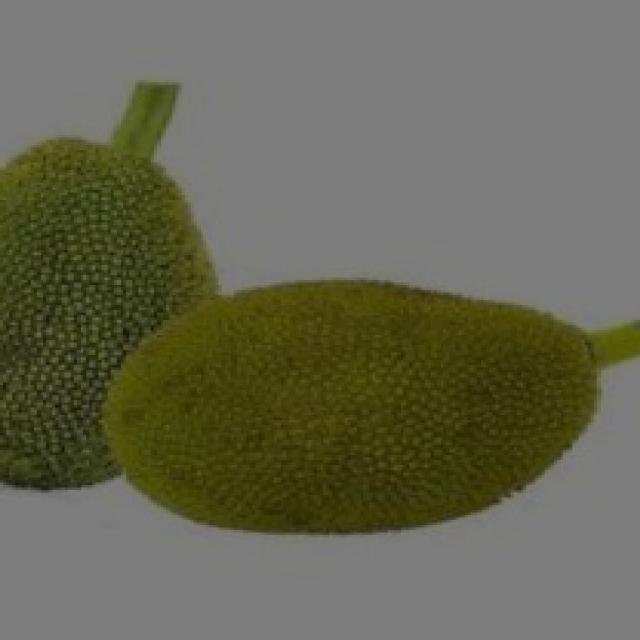Fruit: (237, 275, 615, 557)
